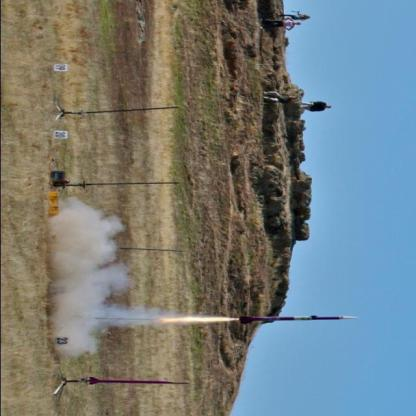MIL_TBM: (237, 313, 358, 327), (87, 378, 188, 386)
